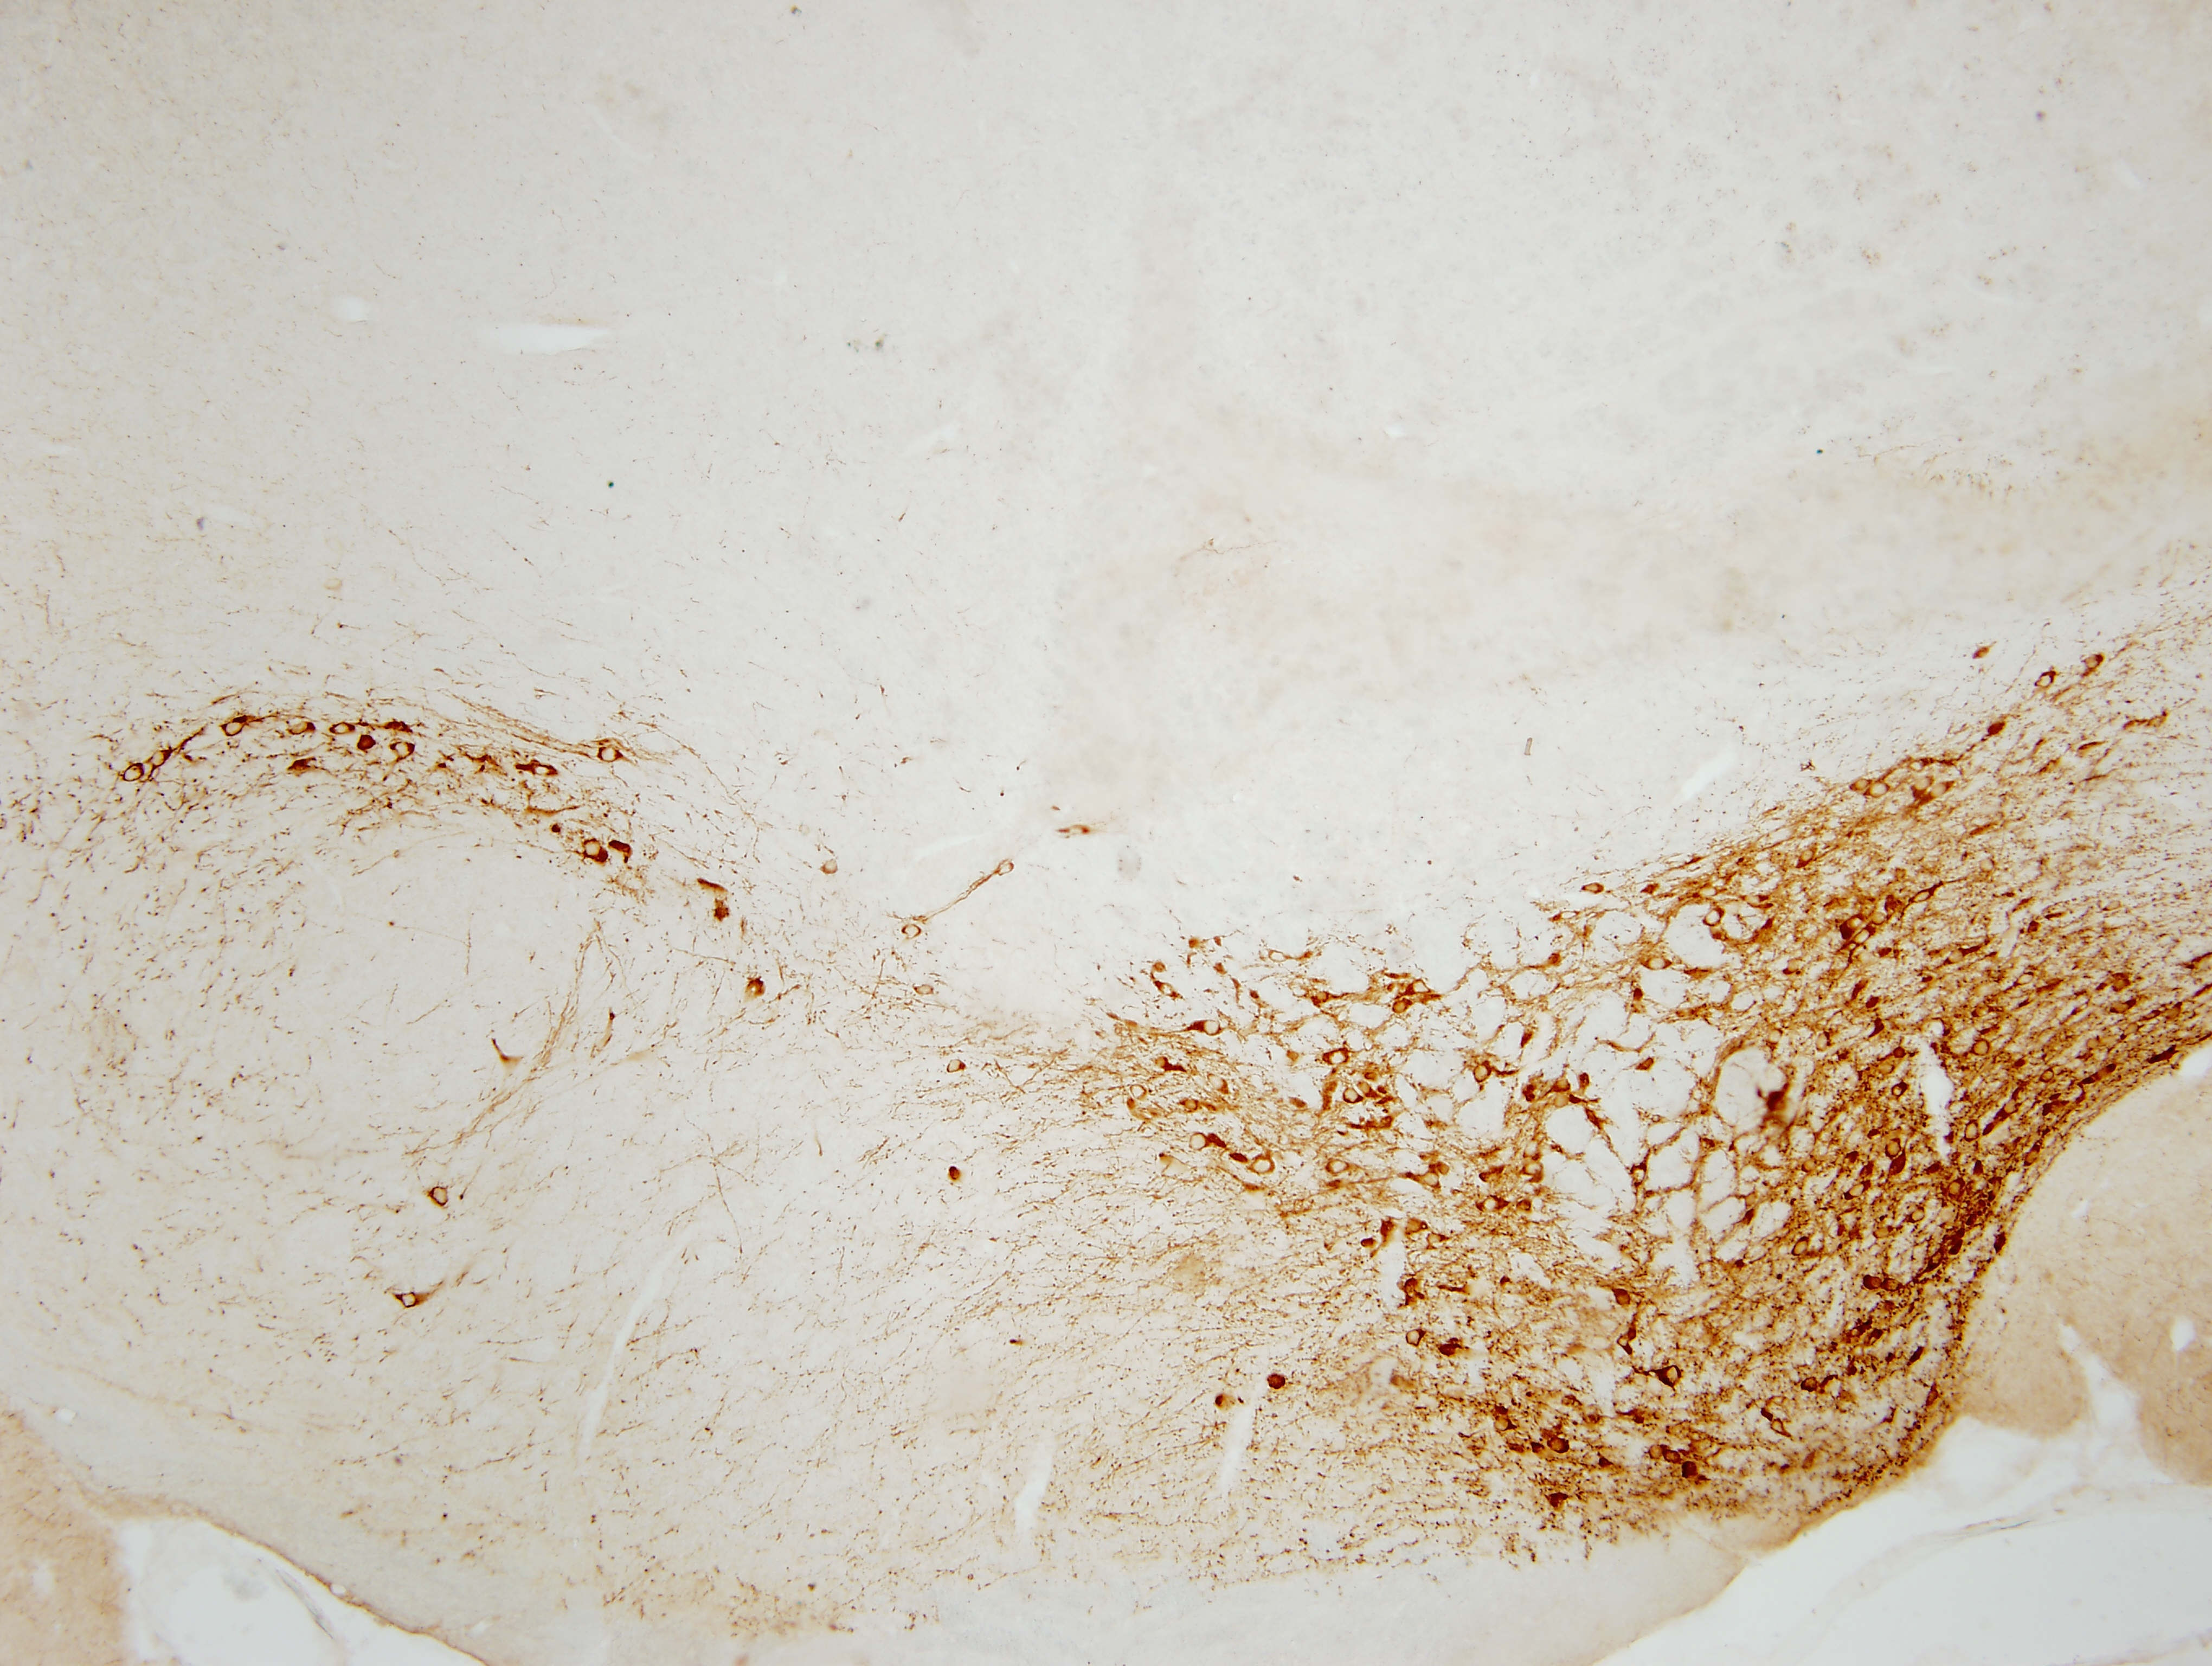neuron: (582, 835, 609, 861), (598, 742, 624, 768), (1200, 1015, 1226, 1041), (1207, 1069, 1233, 1096), (1325, 1045, 1352, 1071), (1327, 1153, 1353, 1179), (1404, 1326, 1430, 1353), (1408, 975, 1434, 1001), (1471, 1061, 1497, 1087), (147, 746, 173, 772), (1492, 1410, 1518, 1437), (1521, 1157, 1548, 1183), (1521, 1138, 1548, 1164), (1556, 903, 1582, 929), (1581, 875, 1607, 901), (1628, 1160, 1654, 1186), (1647, 952, 1673, 978), (1659, 1365, 1686, 1391), (1770, 1418, 1796, 1444), (1789, 1234, 1815, 1260), (1813, 1029, 1840, 1055), (1845, 1178, 1871, 1204), (1909, 770, 1936, 796), (1929, 777, 1955, 803), (1946, 943, 1972, 970), (1962, 1118, 1988, 1145), (1969, 1036, 1995, 1062), (2014, 968, 2041, 994), (2035, 667, 2062, 693), (2083, 649, 2109, 676), (2111, 996, 2137, 1022), (222, 714, 248, 740), (330, 716, 357, 742), (532, 758, 558, 784), (121, 760, 145, 786), (1252, 1153, 1276, 1179), (1481, 1190, 1507, 1215), (1548, 1433, 1572, 1459), (1703, 905, 1728, 931), (1794, 843, 1820, 868), (1866, 775, 1892, 800), (1882, 1138, 1908, 1162), (1911, 884, 1936, 910), (285, 714, 311, 738), (392, 737, 416, 763), (1357, 1076, 1376, 1097), (1423, 1171, 1443, 1192), (1616, 1332, 1635, 1353), (1845, 915, 1866, 935), (1946, 1179, 1967, 1199), (2039, 1067, 2060, 1087), (822, 858, 841, 877), (902, 924, 922, 943), (916, 982, 936, 1001), (948, 1057, 967, 1076), (997, 859, 1016, 878), (1130, 1081, 1149, 1101), (1158, 982, 1177, 1001), (1182, 1097, 1201, 1116), (1191, 1134, 1210, 1153), (1269, 949, 1289, 968), (1313, 989, 1332, 1008), (1343, 1087, 1362, 1106), (1392, 998, 1411, 1017), (1614, 1288, 1633, 1307), (1645, 1444, 1665, 1463), (1663, 1447, 1682, 1466), (1766, 1027, 1785, 1046), (1852, 773, 1871, 793), (1855, 928, 1875, 947), (1864, 1274, 1883, 1293), (1869, 910, 1889, 929), (1883, 1276, 1902, 1295), (1892, 1080, 1911, 1099), (1908, 756, 1927, 775), (1909, 1206, 1929, 1225)
